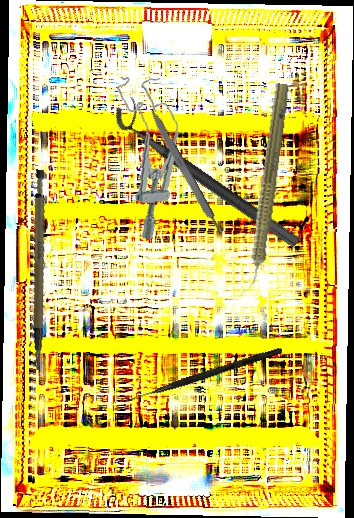Fixation Ring: (107, 93, 312, 250)
Handpiece: (237, 81, 294, 301)
Hook Surgical: (123, 345, 283, 407)
Scalpel Handle: (2, 168, 72, 371), (146, 107, 224, 237)
Speculum: (116, 72, 188, 241)
